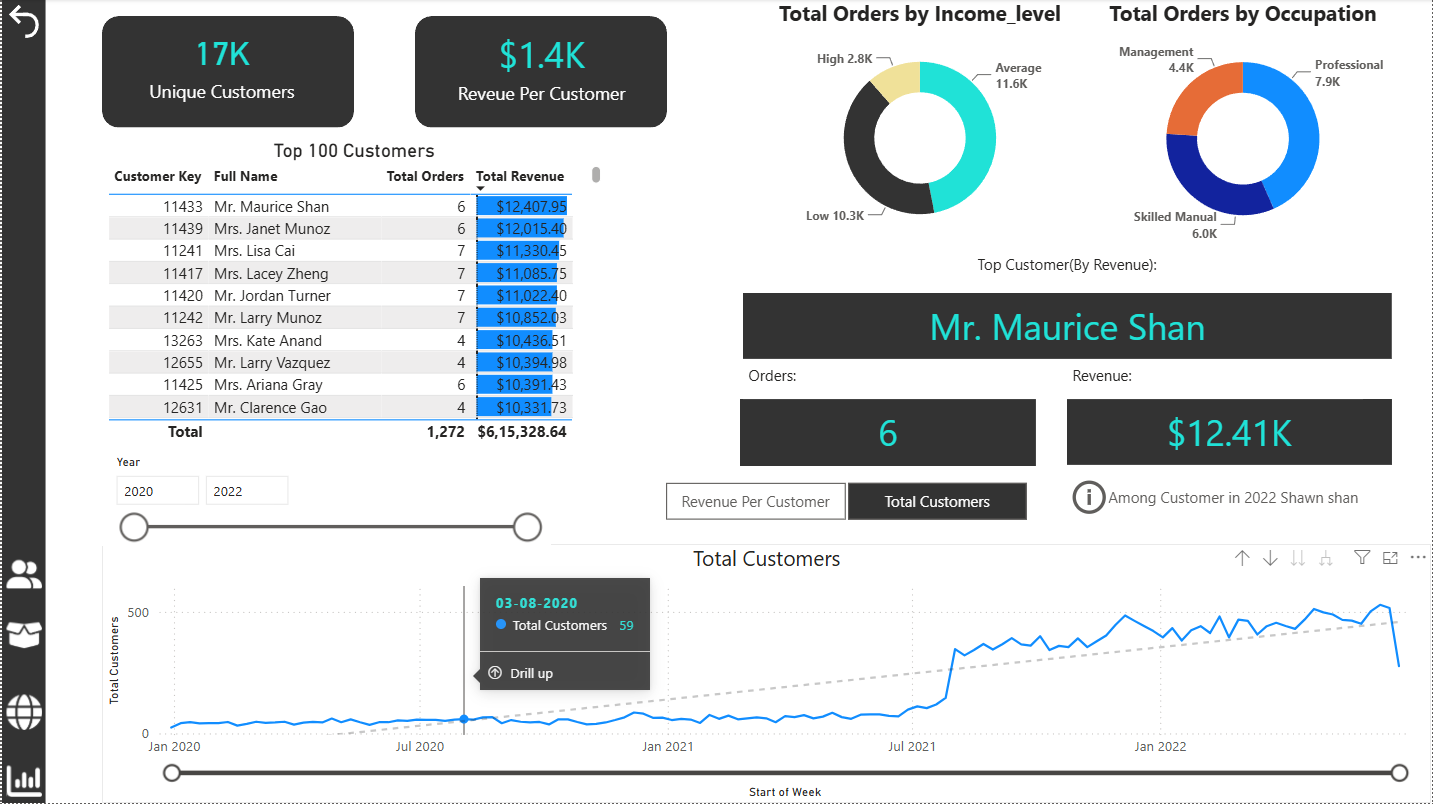

The dashboard page shown, as its layout file describes it:
{"tool":"powerbi","page":{"name":"Customer Detail","canvas":[1280,720],"ordinal":3},"visuals":[{"type":"shape","box":[0,0,39.2,720.3],"z":0},{"type":"actionButton","box":[0,680.1,39.8,39.8],"z":0,"group":"g1"},{"type":"shape","box":[89.2,14.9,225.7,100],"z":1000},{"type":"actionButton","box":[0,549.5,39.8,39.8],"z":1000,"group":"g1"},{"type":"card","fields":{"Values":["MeasureTable.TOTAL_CUSTOMERS"]},"box":[89.2,14.9,214.9,85.1],"z":2000},{"type":"actionButton","box":[0,618,44.8,39.8],"z":2000,"group":"g1"},{"type":"shape","box":[370.3,14.9,225.7,100],"z":3000},{"type":"actionButton","box":[0,494.8,39.8,39.8],"z":3000,"group":"g1"},{"type":"card","fields":{"Values":["MeasureTable.reveue_per_customer"]},"box":[336.5,5.4,293.2,109.5],"z":4000},{"type":"lineChart","fields":{"Category":["Calendar Lookup.Year Hierarchy.Start of Year","Calendar Lookup.Year Hierarchy.Start of Month","Calendar Lookup.Year Hierarchy.Date","Calendar Lookup.Year Hierarchy.Start of Week"],"Y":["MeasureTable.TOTAL_CUSTOMERS"]},"box":[89.6,487.6,1190.5,232.6],"z":5000},{"type":"donutChart","title":"Total Orders by Income_level","fields":{"Category":["Customer Lookup.Income_level"],"Y":["MeasureTable.Total_orders"]},"box":[689.2,0,265,223.9],"z":6000},{"type":"donutChart","title":"Total Orders by Occupation","fields":{"Category":["Customer Lookup.Occupation"],"Y":["MeasureTable.Total_orders"]},"box":[979,0,265,225.2],"z":7000},{"type":"tableEx","title":"Top 100 Customers","fields":{"Values":["Customer Lookup.CustomerKey","Customer Lookup.Full Name","MeasureTable.Total_orders","MeasureTable.total_revenue"]},"box":[89.6,125.6,451.6,276.2],"z":8000},{"type":"card","fields":{"Values":["Min(Customer Lookup.Full Name)"]},"box":[663.5,263.5,581.1,59.5],"z":8001},{"type":"card","fields":{"Values":["MeasureTable.Total_orders"]},"box":[660.5,358.3,265,59.7],"z":8002},{"type":"card","fields":{"Values":["MeasureTable.total_revenue"]},"box":[954.1,358.1,290.5,59.5],"z":8003},{"type":"textbox","box":[868.9,224.3,191.9,29.7],"z":8004},{"type":"textbox","box":[663.5,323,264.9,35.1],"z":8005},{"type":"textbox","box":[954.1,323,264.9,35.1],"z":8006},{"type":"slicer","fields":{"Values":["Calendar Lookup.Year"]},"box":[89.6,403,401.8,85.8],"z":8007},{"type":"actionButton","box":[0,0,39.8,39.8],"z":8008},{"type":"actionButton","box":[954.1,426.7,265,39.8],"z":8009},{"type":"group","id":"g1","title":"Navigationbuttons","box":[0,494.8,44.8,225.2],"z":8010},{"type":"slicer","fields":{"Values":["metric parameter.metric parameter"]},"box":[568.5,426.7,373.2,47.3],"z":8011}]}

Visuals, with their boxes on the page's 1280x720 design canvas (x1, y1, x2, y2). These are canvas units, not pixel positions in the 1433x804 screenshot, which may show the page scaled, cropped or inside an application window:
shape: pyautogui.locateOnScreen(0, 0, 39, 720)
actionButton: pyautogui.locateOnScreen(0, 680, 40, 720)
shape: pyautogui.locateOnScreen(89, 15, 315, 115)
actionButton: pyautogui.locateOnScreen(0, 550, 40, 589)
card - MeasureTable.TOTAL_CUSTOMERS: pyautogui.locateOnScreen(89, 15, 304, 100)
actionButton: pyautogui.locateOnScreen(0, 618, 45, 658)
shape: pyautogui.locateOnScreen(370, 15, 596, 115)
actionButton: pyautogui.locateOnScreen(0, 495, 40, 535)
card - MeasureTable.reveue_per_customer: pyautogui.locateOnScreen(336, 5, 630, 115)
lineChart - Calendar Lookup.Year Hierarchy.Start of Year x Calendar Lookup.Year Hierarchy.Start of Month: pyautogui.locateOnScreen(90, 488, 1280, 720)
"Total Orders by Income_level" donutChart: pyautogui.locateOnScreen(689, 0, 954, 224)
"Total Orders by Occupation" donutChart: pyautogui.locateOnScreen(979, 0, 1244, 225)
"Top 100 Customers" tableEx: pyautogui.locateOnScreen(90, 126, 541, 402)
card - Min(Customer Lookup.Full Name): pyautogui.locateOnScreen(664, 264, 1245, 323)
card - MeasureTable.Total_orders: pyautogui.locateOnScreen(660, 358, 926, 418)
card - MeasureTable.total_revenue: pyautogui.locateOnScreen(954, 358, 1245, 418)
textbox: pyautogui.locateOnScreen(869, 224, 1061, 254)
textbox: pyautogui.locateOnScreen(664, 323, 928, 358)
textbox: pyautogui.locateOnScreen(954, 323, 1219, 358)
slicer - Calendar Lookup.Year: pyautogui.locateOnScreen(90, 403, 491, 489)
actionButton: pyautogui.locateOnScreen(0, 0, 40, 40)
actionButton: pyautogui.locateOnScreen(954, 427, 1219, 466)
"Navigationbuttons" group: pyautogui.locateOnScreen(0, 495, 45, 720)
slicer - metric parameter.metric parameter: pyautogui.locateOnScreen(568, 427, 942, 474)
